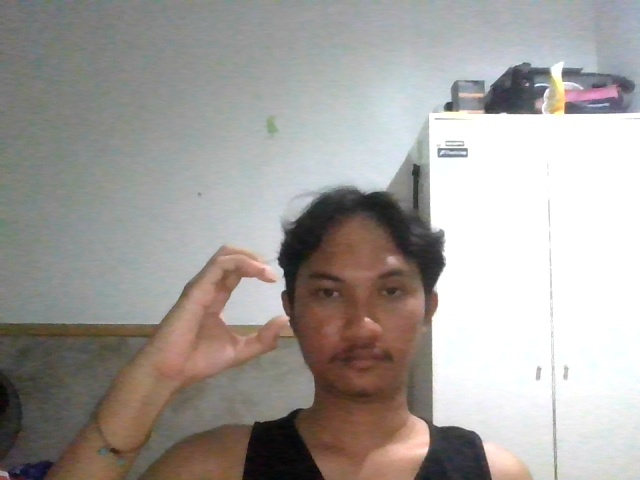c: (142, 240, 291, 391)
